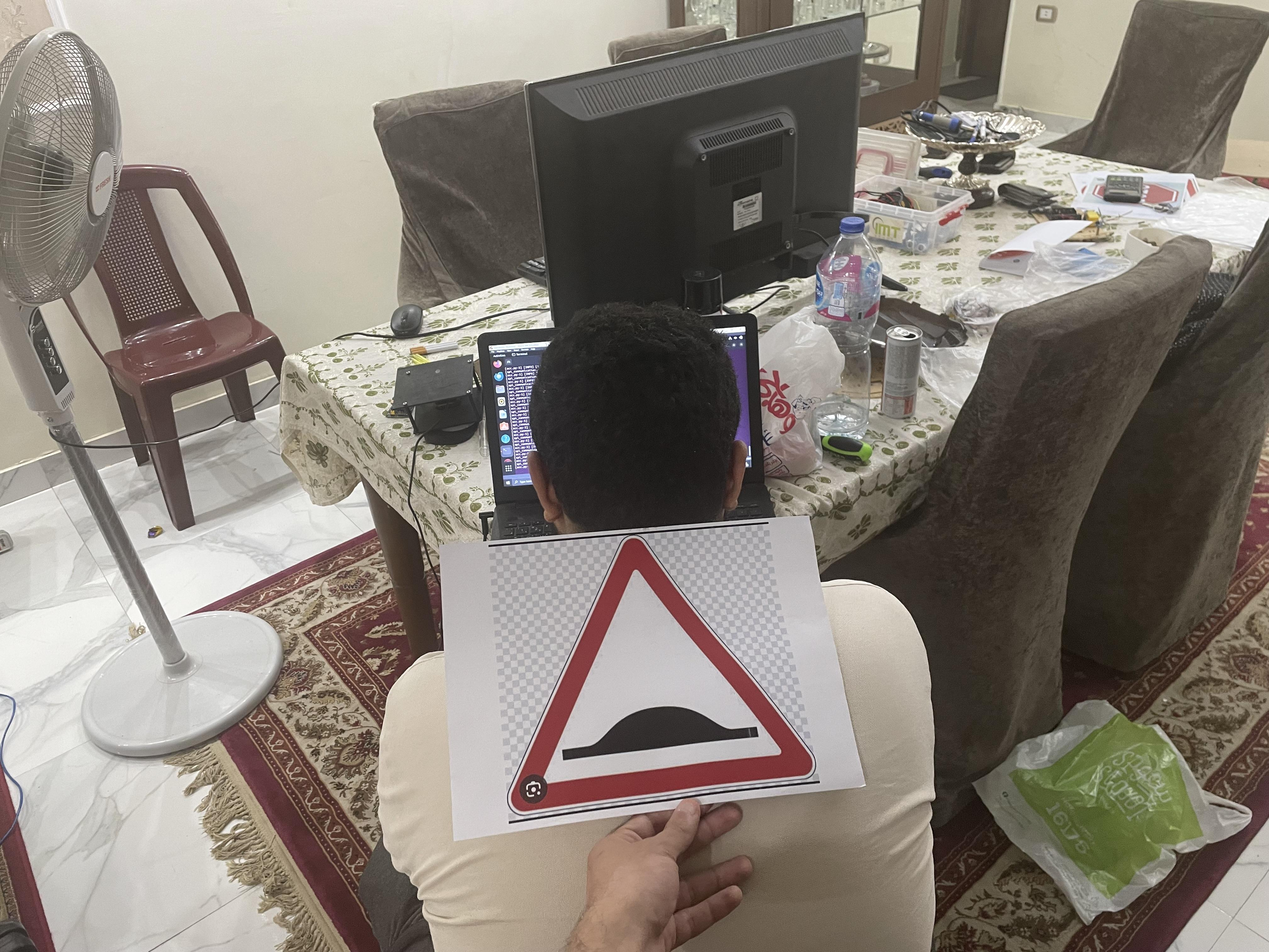Hump: (504, 534, 825, 816)
